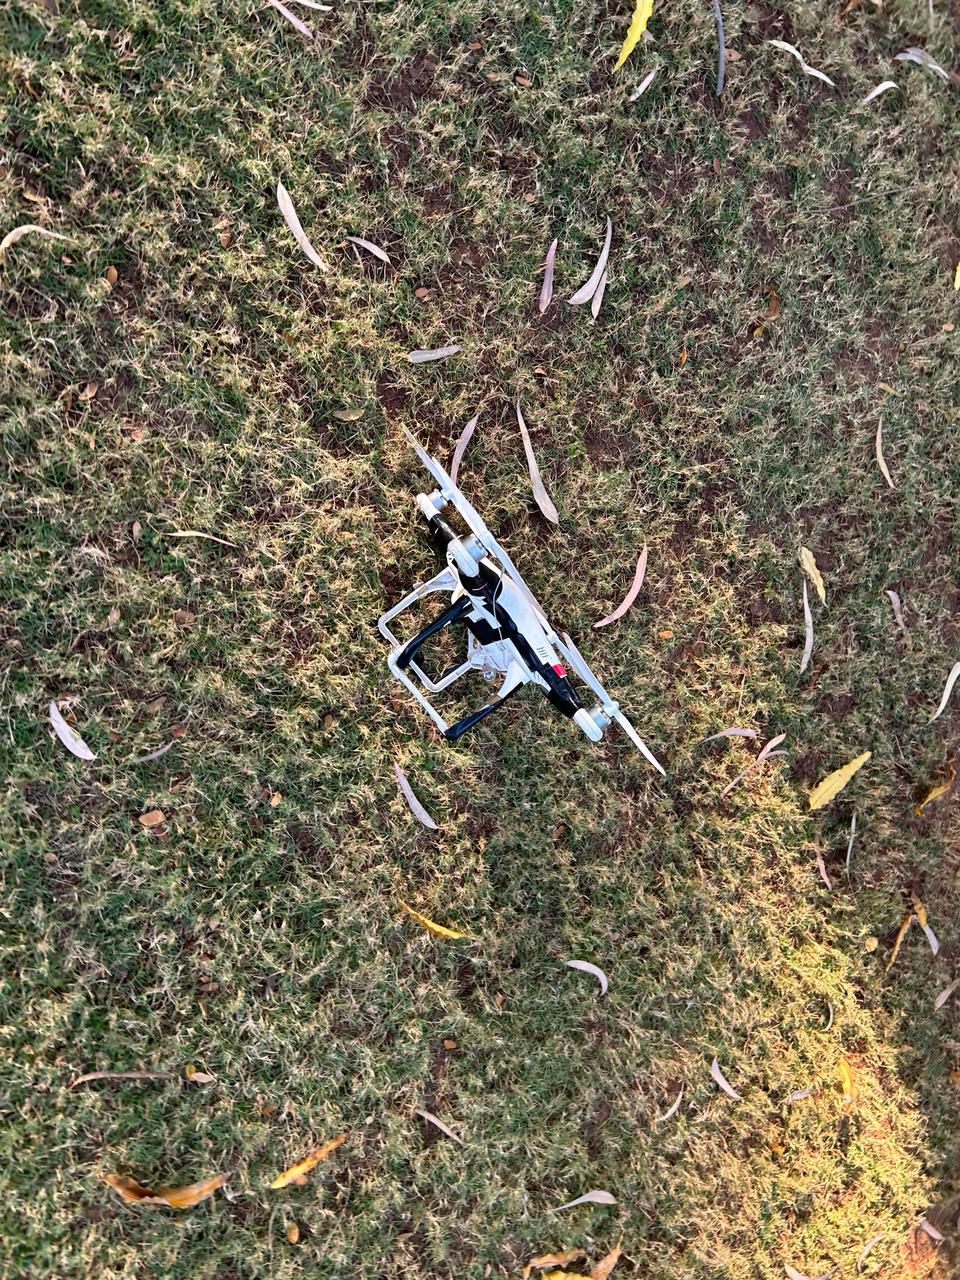drone: (274, 264, 764, 863)
